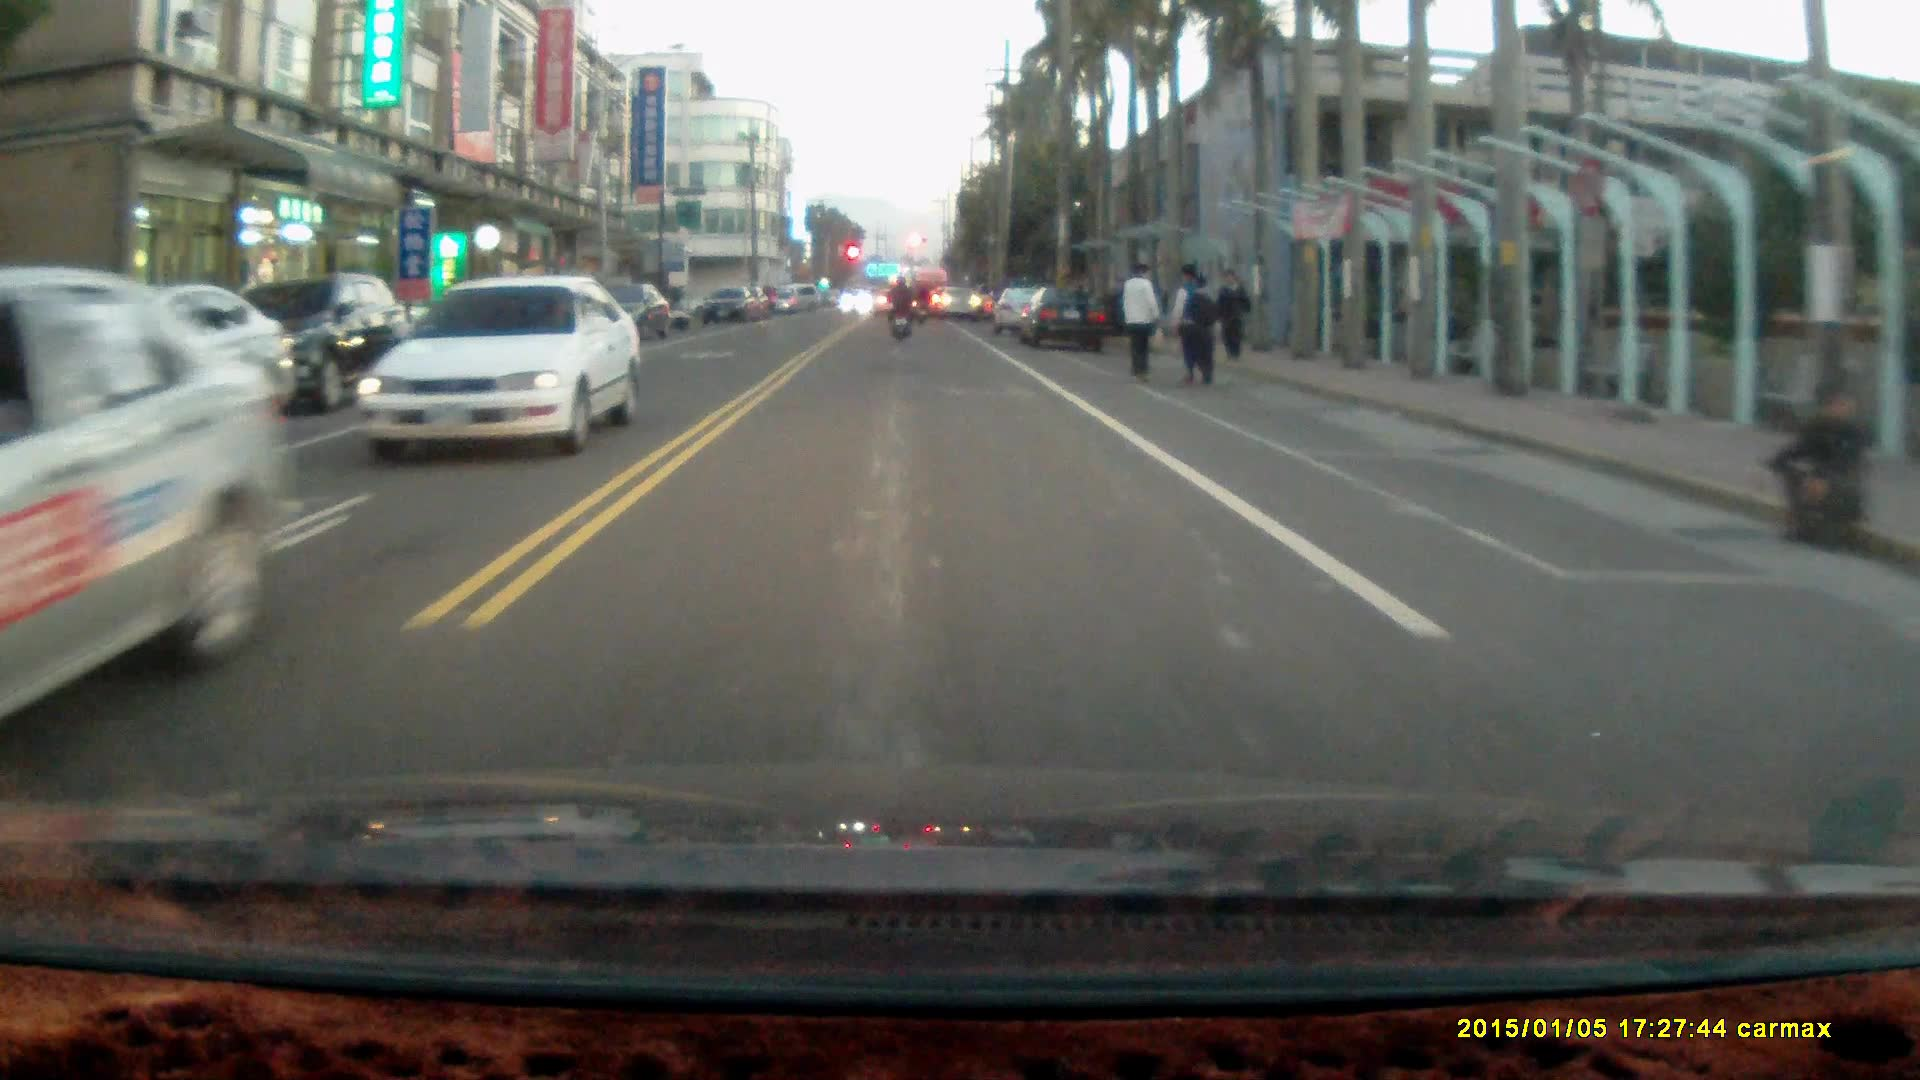pedestrian: (1765, 390, 1869, 557), (1164, 257, 1208, 387), (1119, 259, 1161, 388), (1181, 278, 1220, 395), (1217, 268, 1251, 366)
rider: (884, 273, 915, 344)
vehicle: (1, 270, 286, 732), (360, 277, 641, 452), (1020, 286, 1109, 352)
